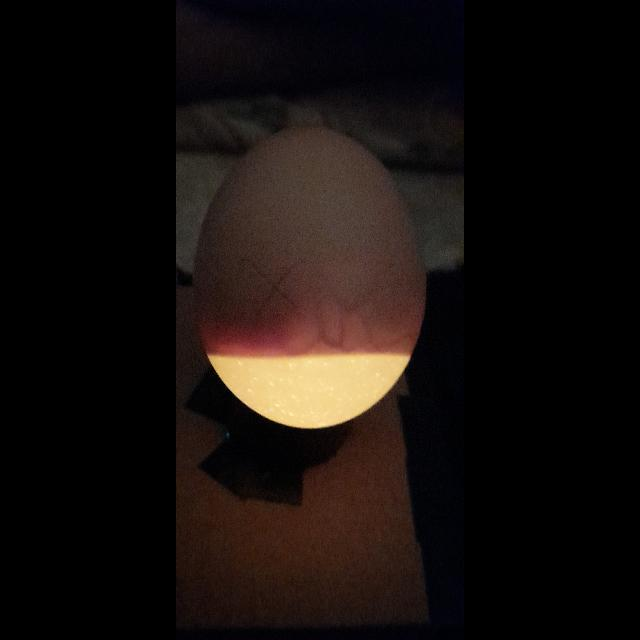Fertile: (193, 125, 429, 438)
